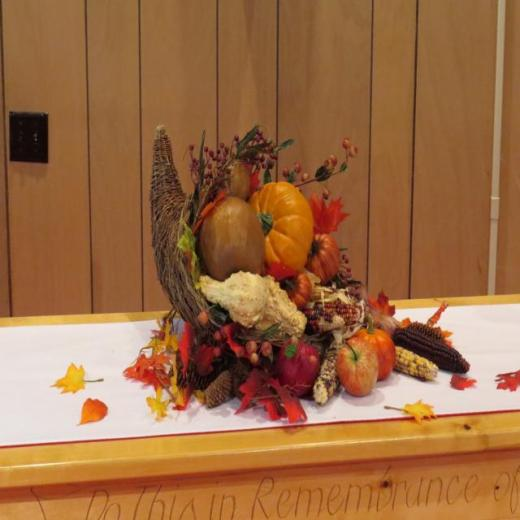Apple: (275, 333, 320, 398), (336, 337, 378, 397)
